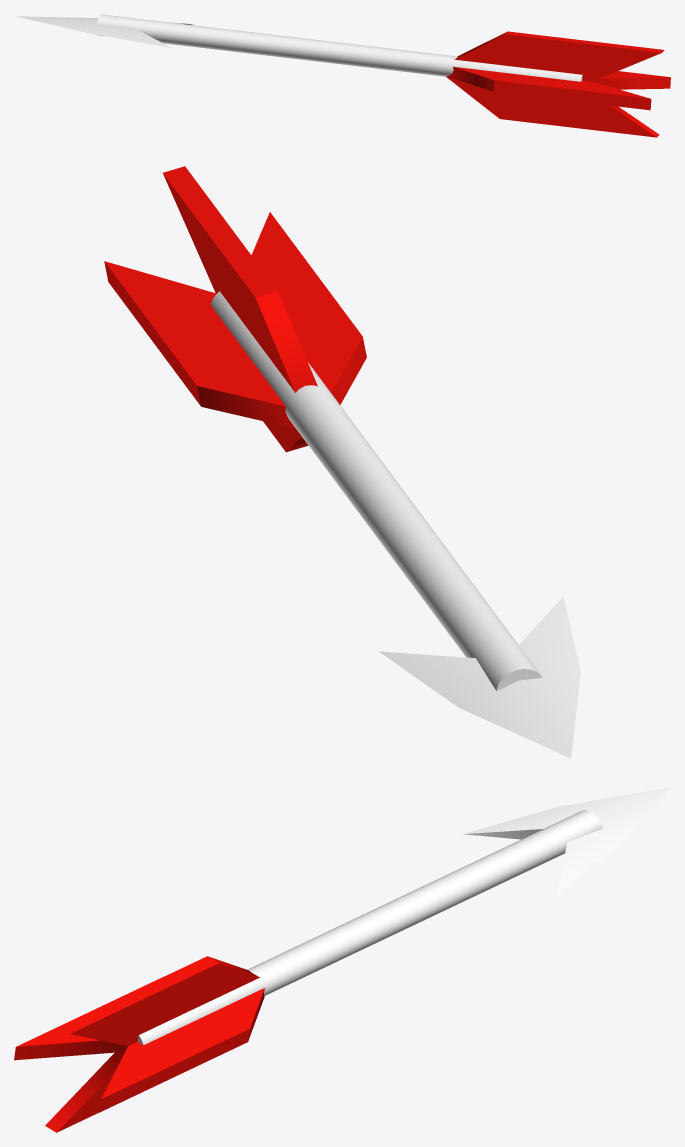
Rendered from Arrow.obj.
The picture shows the model from 3 angles, top to bottom: view 1: azimuth 30°, elevation 25°; view 2: azimuth 150°, elevation 25°; view 3: azimuth 270°, elevation 25°; orthographic projection. The views are drawn at different scales.
Visible parts, largest first — view 1: pCylinder32.008; view 2: pCylinder32.008; view 3: pCylinder32.008.
Part boxes in pixels (bbox=[...]): pCylinder32.008: bbox=[14, 14, 670, 137]; pCylinder32.008: bbox=[104, 166, 580, 758]; pCylinder32.008: bbox=[14, 787, 670, 1132].
Size of the model in its own units: 2.08 by 0.3718 by 1.97.
